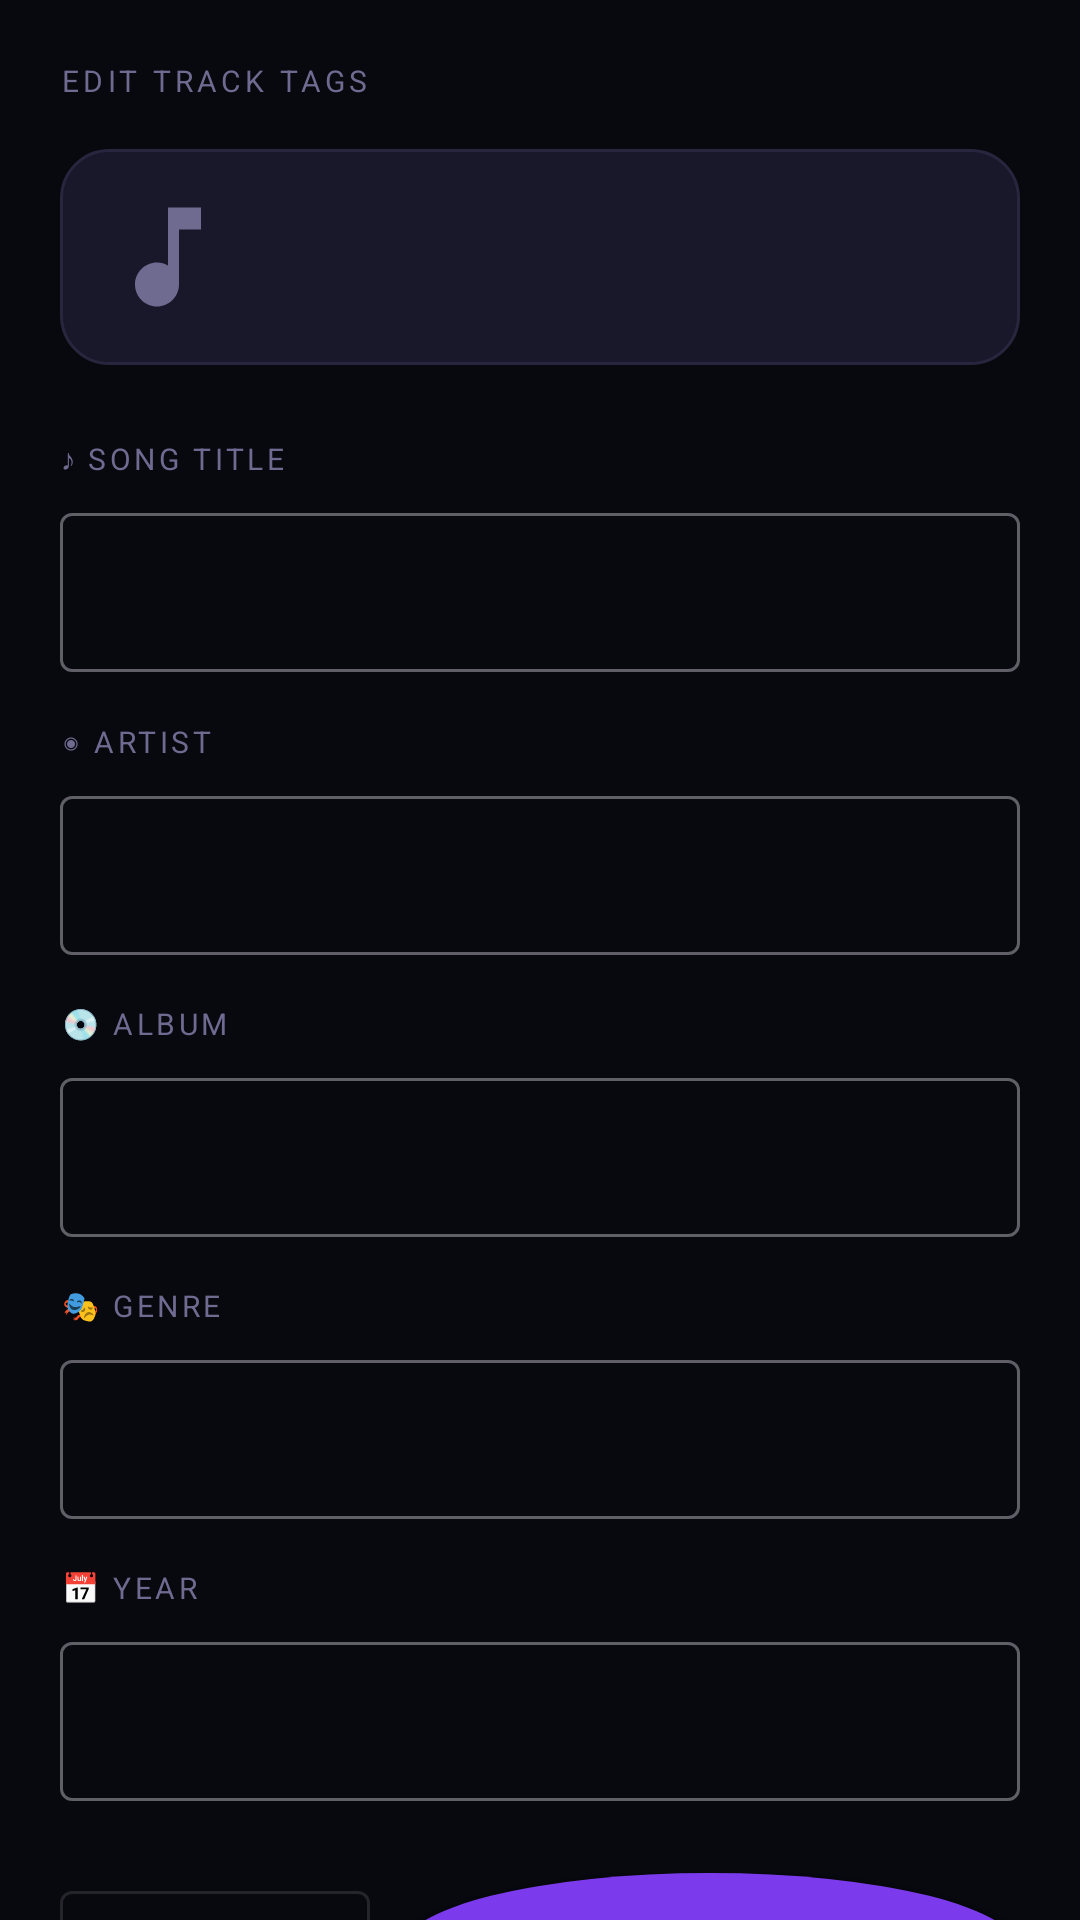

Where to tap for icons on this 1080px x 1920px app screen, as (x,y):
music note: (168,257)
